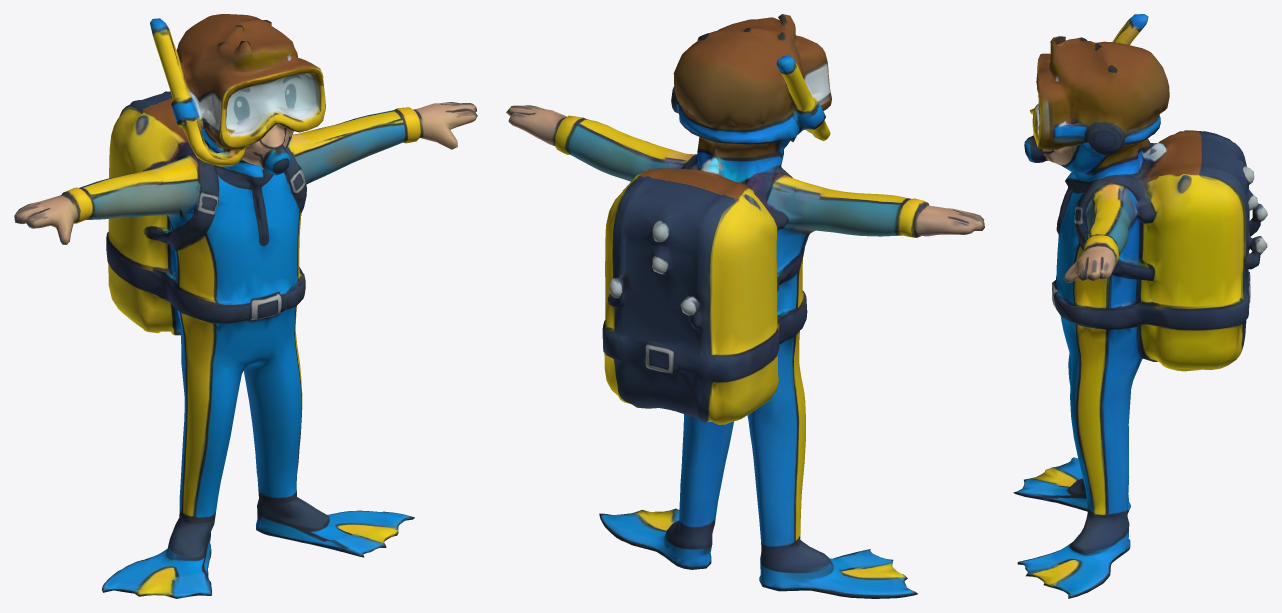
File: ScubaDiver.fbx
The picture shows the model from 3 angles, left to right: view 1: azimuth 30°, elevation 25°; view 2: azimuth 150°, elevation 25°; view 3: azimuth 270°, elevation 25°; orthographic projection. The views are drawn at different scales.
Visible parts, largest first — view 1: Mesh_0; view 2: Mesh_0; view 3: Mesh_0.
Boxes of the visible parts, left/top/right/bottom form: Mesh_0: left=14, top=14, right=477, bottom=598; Mesh_0: left=506, top=14, right=984, bottom=598; Mesh_0: left=1013, top=14, right=1267, bottom=598.
Size of the model in its own units: 184 by 200 by 94.89.
1 material, 1 textured.
